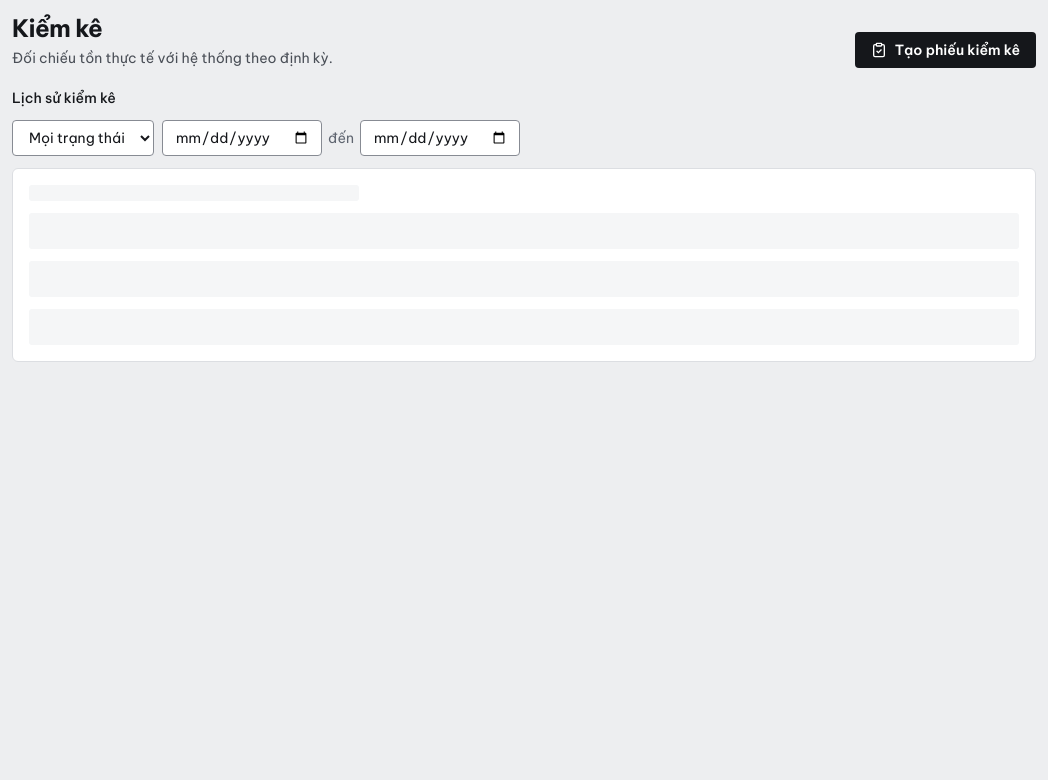
StocktakePanel › records counts then confirms when every row is filled
Click the button "Tạo phiếu kiểm kê" at {"x": 945, "y": 50}, box [855,32,1036,68]
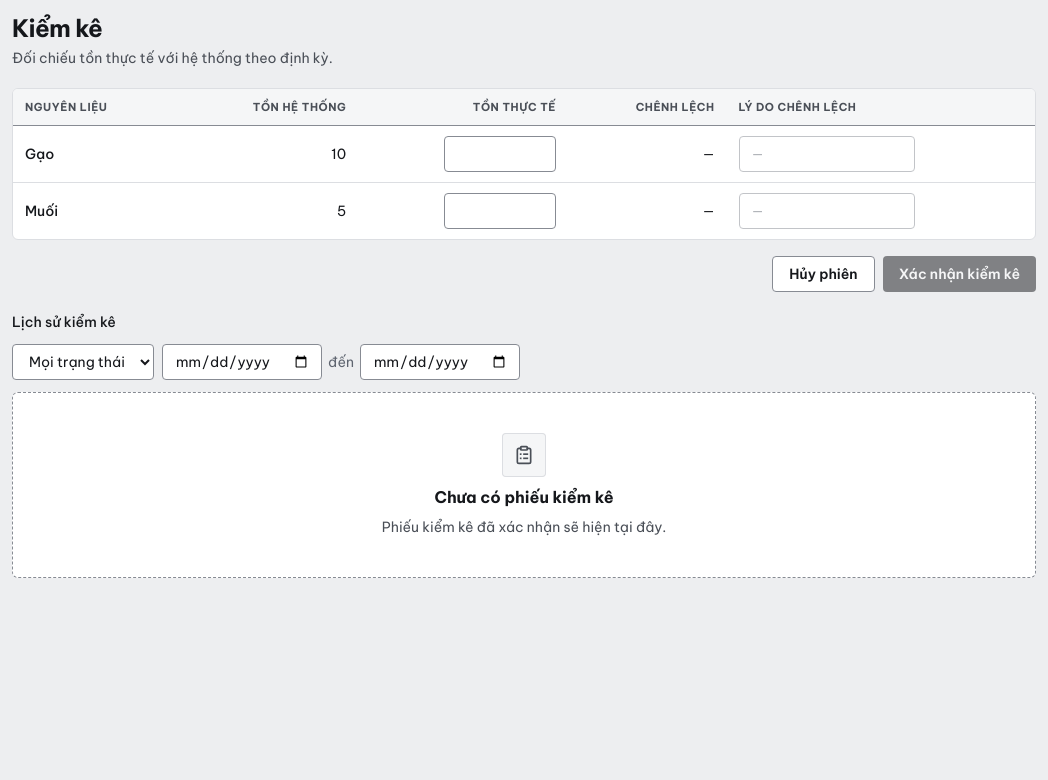
Type "9" into the number field named "Tồn thực tế Gạo" at {"x": 500, "y": 154}, box [444,136,556,172]
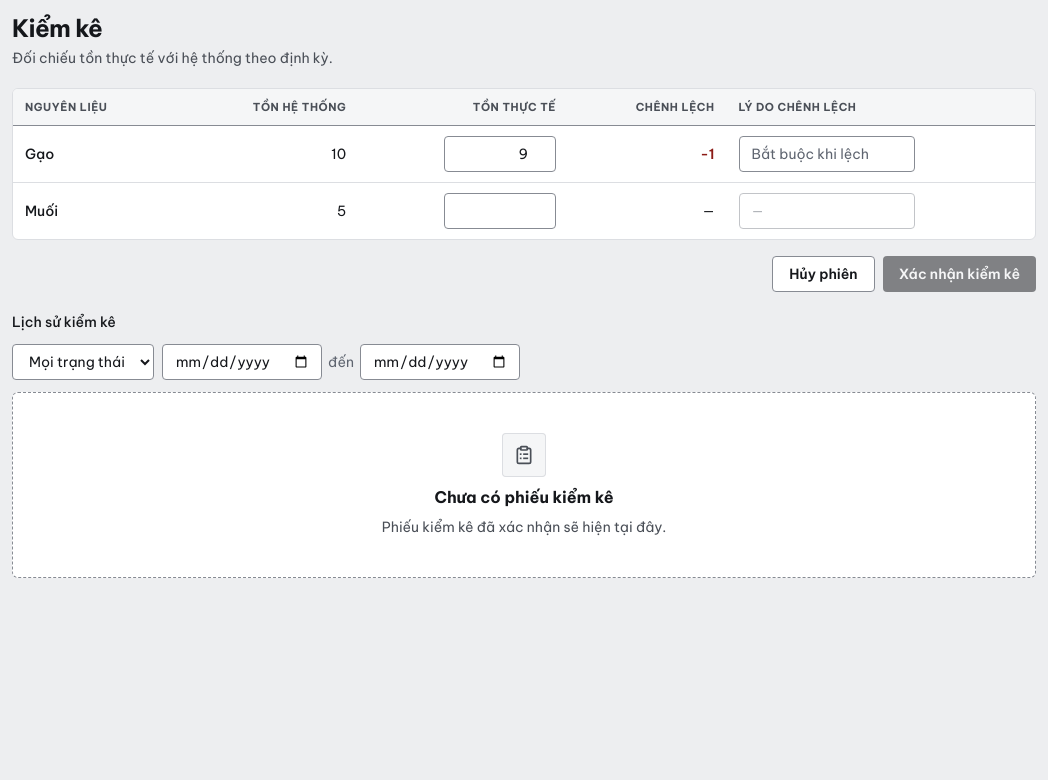
Type "4" into the number field named "Tồn thực tế Muối" at {"x": 500, "y": 211}, box [444,193,556,229]
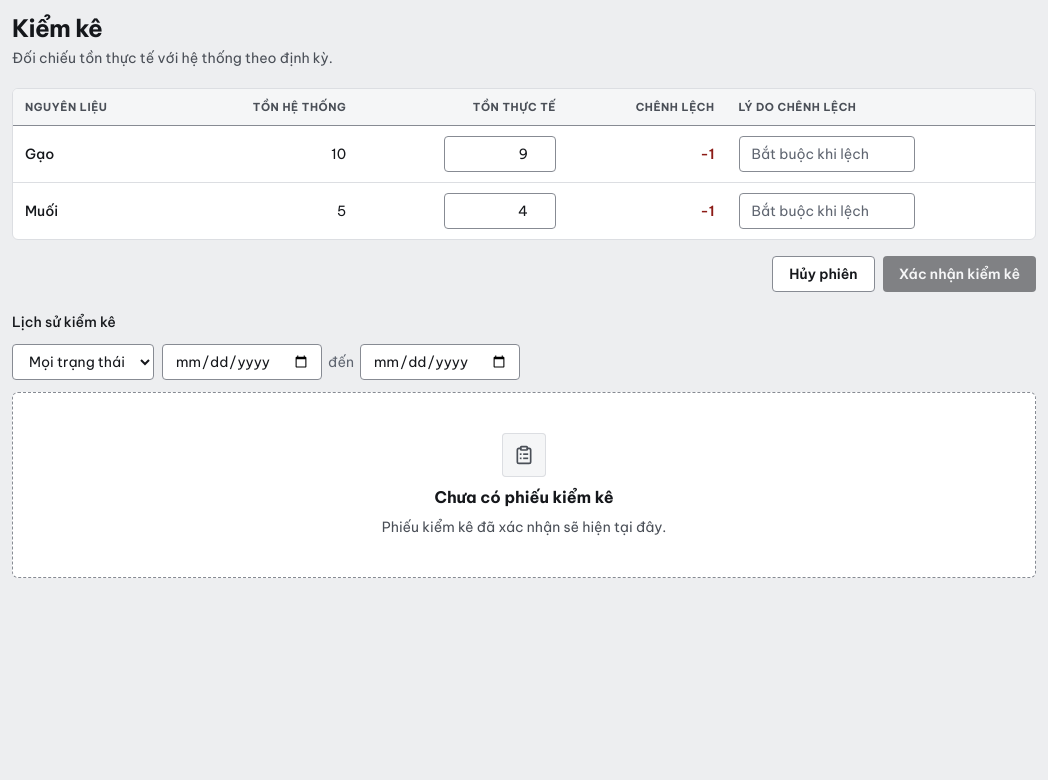
Type "Rơi vỡ" into the field named "Lý do chênh lệch Gạo" at {"x": 826, "y": 154}, box [738,136,914,172]
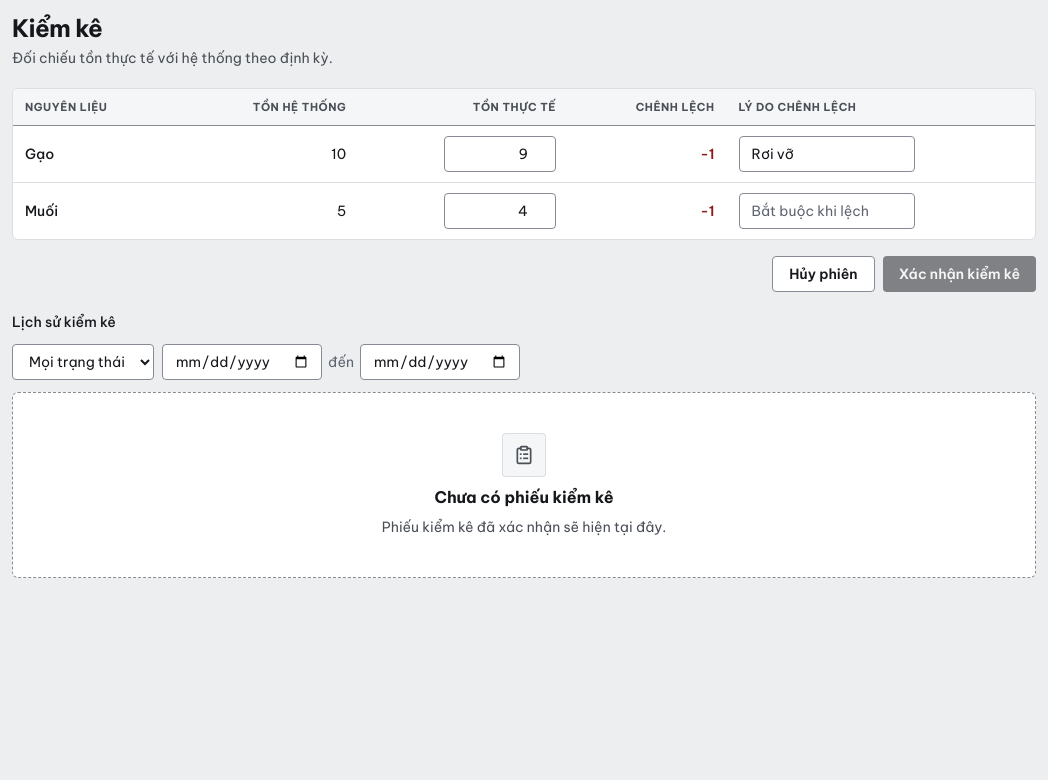
Type "Hao hụt" into the field named "Lý do chênh lệch Muối" at {"x": 826, "y": 211}, box [738,193,914,229]
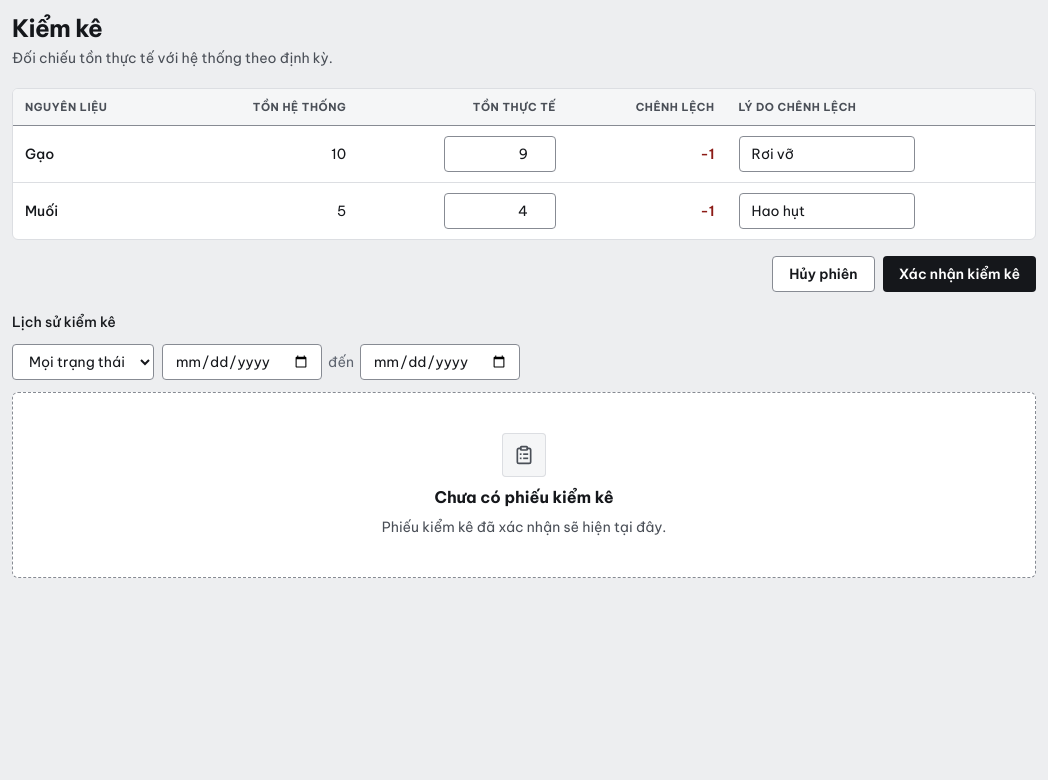
Click the button "Xác nhận kiểm kê" at {"x": 959, "y": 274}, box [883,256,1036,292]
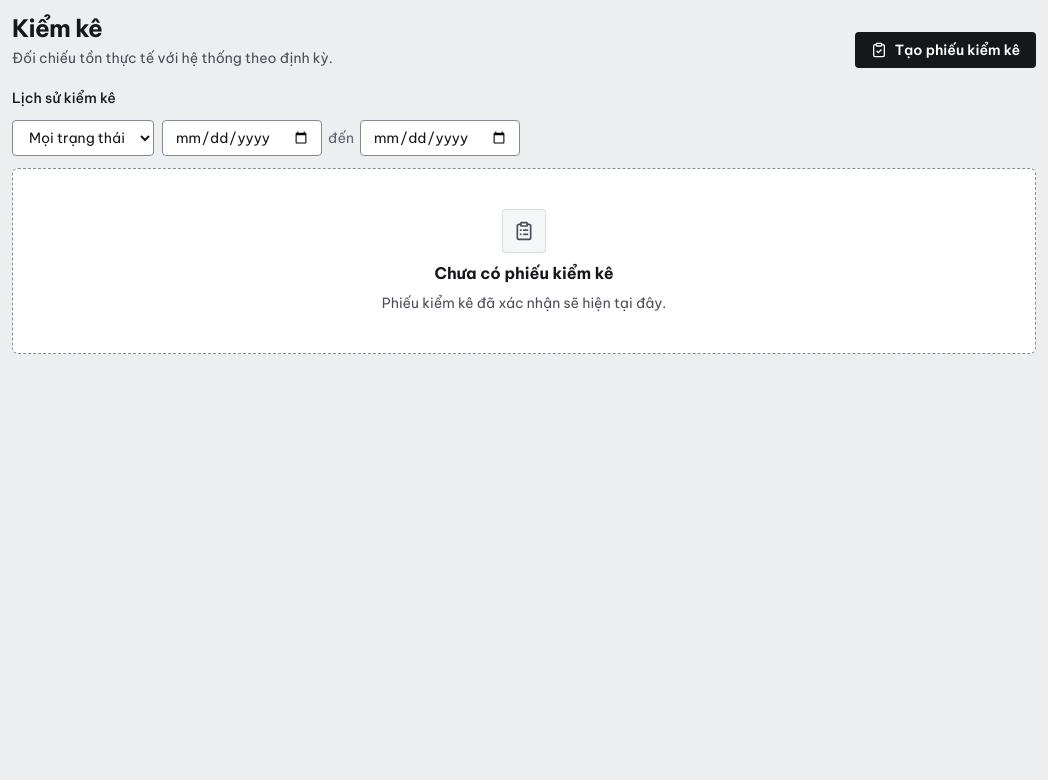
Expected: the button "Tạo phiếu kiểm kê" is shown, [855,32,1036,68]
